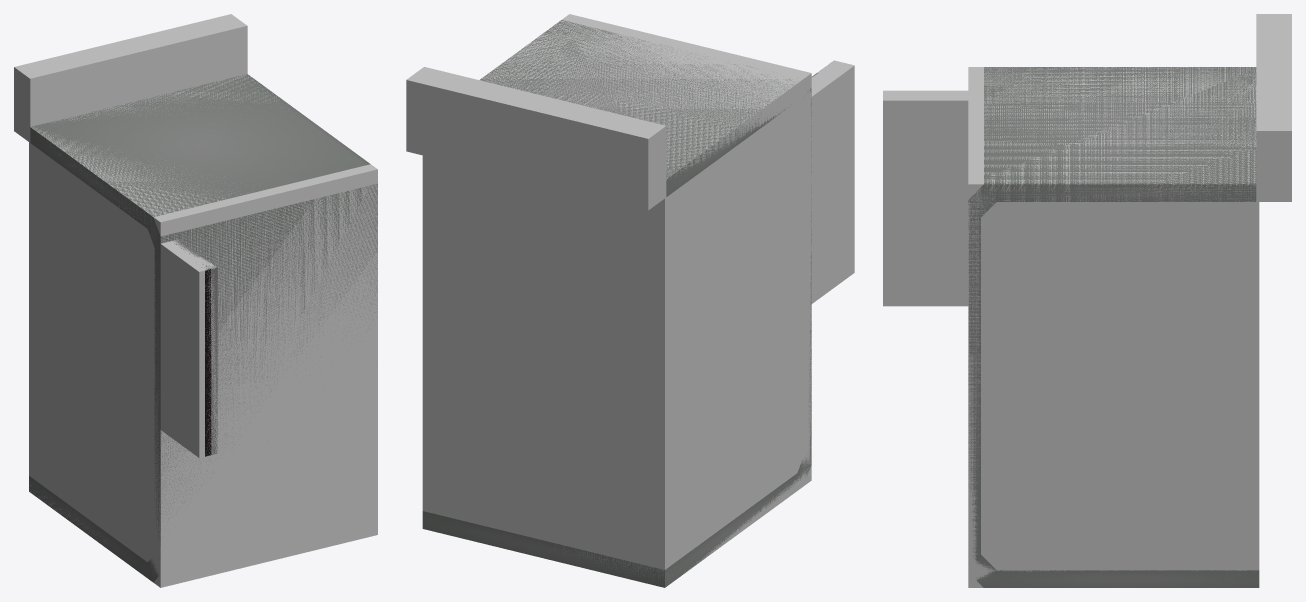
The model's file is SM_VendingMachine_02.fbx.
3 renders of one model, left to right at view 1: azimuth 30°, elevation 25°; view 2: azimuth 150°, elevation 25°; view 3: azimuth 270°, elevation 25°, orthographic. The views are drawn at different scales.
Parts seen in each view (by area): view 1: SM_VendingMachine_02_ConvexHulls, SM_VendingMachine_02; view 2: SM_VendingMachine_02_ConvexHulls, SM_VendingMachine_02; view 3: SM_VendingMachine_02_ConvexHulls, SM_VendingMachine_02.
Part boxes in pixels (<box>): SM_VendingMachine_02_ConvexHulls: <box>14,14,377,587</box>; SM_VendingMachine_02: <box>29,74,377,582</box>; SM_VendingMachine_02_ConvexHulls: <box>406,14,854,580</box>; SM_VendingMachine_02: <box>422,20,833,587</box>; SM_VendingMachine_02_ConvexHulls: <box>883,14,1291,587</box>; SM_VendingMachine_02: <box>968,67,1259,587</box>.
Bounding box in the file's own units: 124 × 184 × 226.
2 materials, 1 textured.
